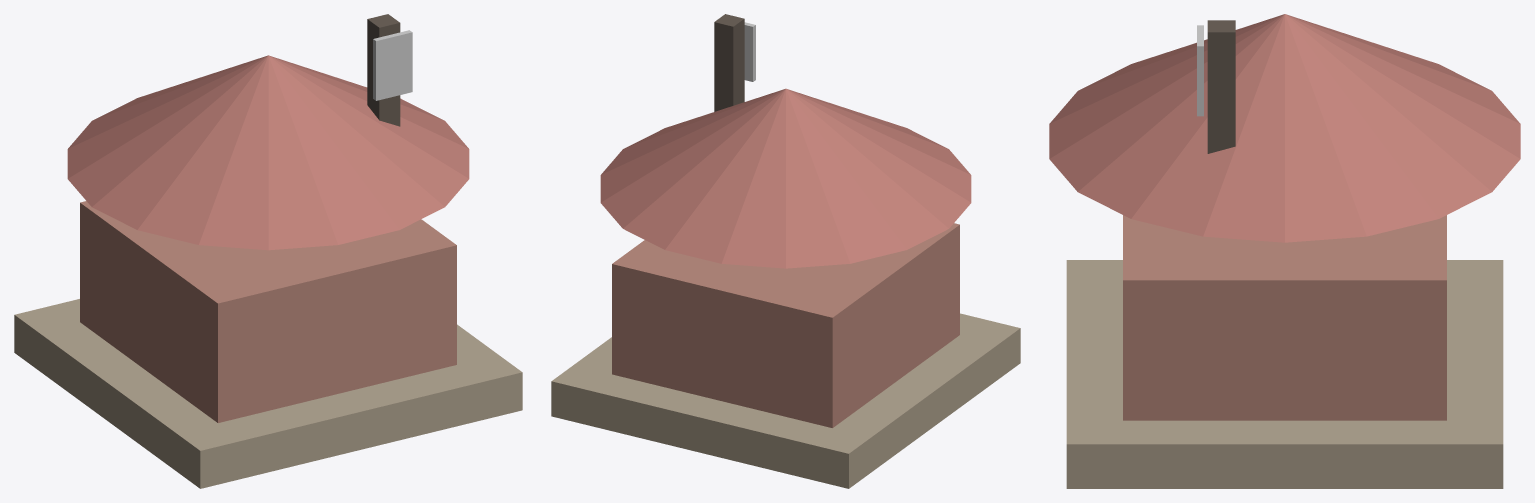
Rendered from barracks.glb.
The picture shows the model from 3 angles, left to right: view 1: azimuth 30°, elevation 25°; view 2: azimuth 150°, elevation 25°; view 3: azimuth 270°, elevation 25°; orthographic projection. The views are drawn at different scales.
Parts seen in each view (by area): view 1: g1, g2, g0, g4, g3; view 2: g2, g1, g0, g3, g4; view 3: g2, g1, g0, g3, g4.
Part boxes in pixels (x1,y1,x2,y2): g1: (80, 201, 456, 422); g2: (67, 55, 469, 250); g0: (14, 299, 522, 488); g4: (373, 30, 412, 100); g3: (367, 14, 400, 126); g2: (600, 88, 971, 268); g1: (612, 223, 959, 427); g0: (551, 313, 1020, 488); g3: (714, 14, 744, 111); g4: (744, 22, 755, 81); g2: (1049, 14, 1520, 242); g1: (1123, 215, 1446, 420); g0: (1066, 260, 1503, 488); g3: (1207, 20, 1235, 153); g4: (1197, 25, 1203, 116).
Size of the model in its own units: 1.36 by 1.32 by 1.34.
